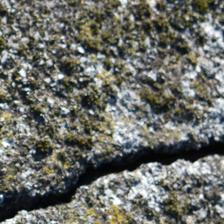Crack: (4, 66, 217, 158)
